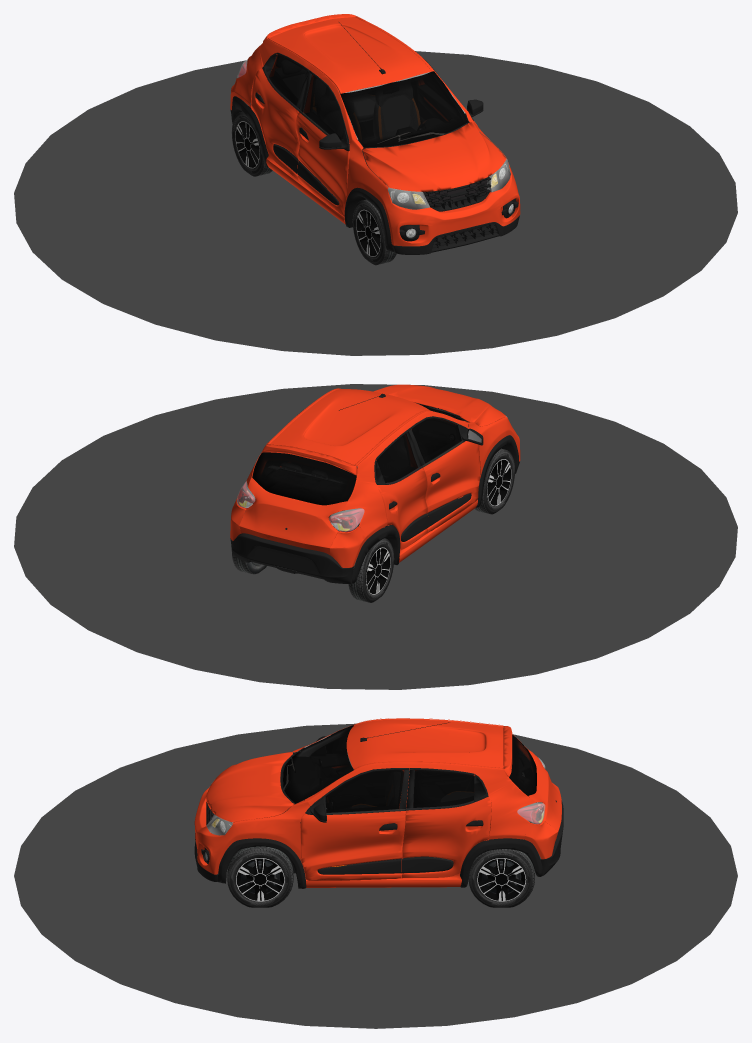
File: car.glb
The picture shows the model from 3 angles, top to bottom: view 1: azimuth 30°, elevation 25°; view 2: azimuth 150°, elevation 25°; view 3: azimuth 270°, elevation 25°; orthographic projection.
Parts seen in each view (by area): view 1: Circle, Bodywork, Window, Bodywork Plastic, Right Front Door.019, Right Back Door.014, Right Front Door, Right Back Door, Front Light, Right Front Tire.001, Left Front Seat.003, Right Back Tire (+6 smaller); view 2: Circle, Bodywork, Trunk.002, Bodywork Plastic, Trunk.001, Right Front Door.019, Right Back Door.014, Right Front Door, Right Back Door, Right Back Tire.001, Rear Light, Right Front Tire.001 (+6 smaller); view 3: Circle, Bodywork, Right Front Door.016, Right Back Door.016, Bodywork Plastic, Window, Right Front Door.007, Left Front Tire.001, Right Back Door.006, Left back Tire.001, Trunk.002, Left Front Tire (+9 smaller).
Boxes of the visible parts, bbox=[...] form: Circle: bbox=[14, 51, 737, 355]; Bodywork: bbox=[230, 16, 520, 246]; Window: bbox=[340, 71, 467, 147]; Bodywork Plastic: bbox=[230, 96, 519, 254]; Right Front Door.019: bbox=[295, 72, 349, 216]; Right Back Door.014: bbox=[251, 57, 299, 179]; Right Front Door: bbox=[303, 74, 344, 140]; Right Back Door: bbox=[268, 54, 306, 105]; Front Light: bbox=[387, 159, 510, 209]; Right Front Tire.001: bbox=[352, 199, 396, 265]; Left Front Seat.003: bbox=[382, 96, 409, 131]; Right Back Tire: bbox=[235, 121, 260, 167]; Circle: bbox=[14, 384, 737, 689]; Bodywork: bbox=[230, 384, 520, 567]; Trunk.002: bbox=[239, 444, 356, 554]; Bodywork Plastic: bbox=[230, 435, 519, 583]; Trunk.001: bbox=[252, 452, 356, 505]; Right Front Door.019: bbox=[410, 423, 480, 532]; Right Back Door.014: bbox=[377, 468, 427, 549]; Right Front Door: bbox=[411, 418, 461, 463]; Right Back Door: bbox=[376, 433, 417, 482]; Right Back Tire.001: bbox=[348, 538, 394, 602]; Rear Light: bbox=[237, 481, 364, 531]; Right Front Tire.001: bbox=[475, 448, 514, 514]; Circle: bbox=[14, 723, 737, 1028]; Bodywork: bbox=[194, 718, 558, 887]; Right Front Door.016: bbox=[300, 794, 405, 880]; Right Back Door.016: bbox=[402, 796, 491, 878]; Bodywork Plastic: bbox=[194, 800, 563, 888]; Window: bbox=[283, 725, 353, 803]; Right Front Door.007: bbox=[325, 770, 404, 812]; Left Front Tire.001: bbox=[227, 846, 293, 907]; Right Back Door.006: bbox=[413, 770, 474, 807]; Left back Tire.001: bbox=[468, 849, 534, 907]; Trunk.002: bbox=[503, 726, 561, 831]; Left Front Tire: bbox=[236, 857, 284, 900].
Bounding box in the file's own units: 6.94 × 1.65 × 6.94.
28 materials, 27 textured.
